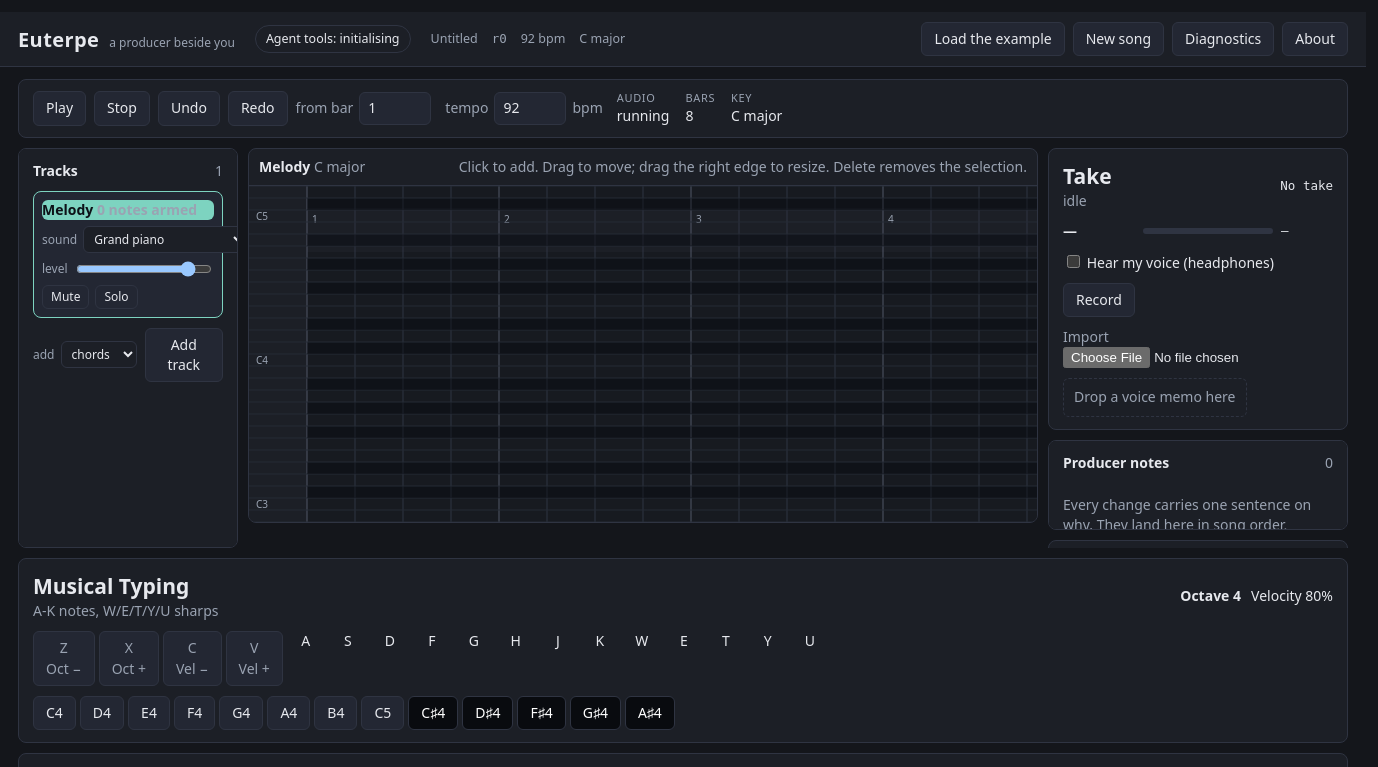
Test case: App › loads the example from the empty page in one click
(page scrolled)
Expected: the button "New song" is disabled, top-left (1073, 22), bottom-right (1164, 56)
Click the button "Load the example".
click(993, 39)  # box top-left (922, 22), bottom-right (1065, 56)
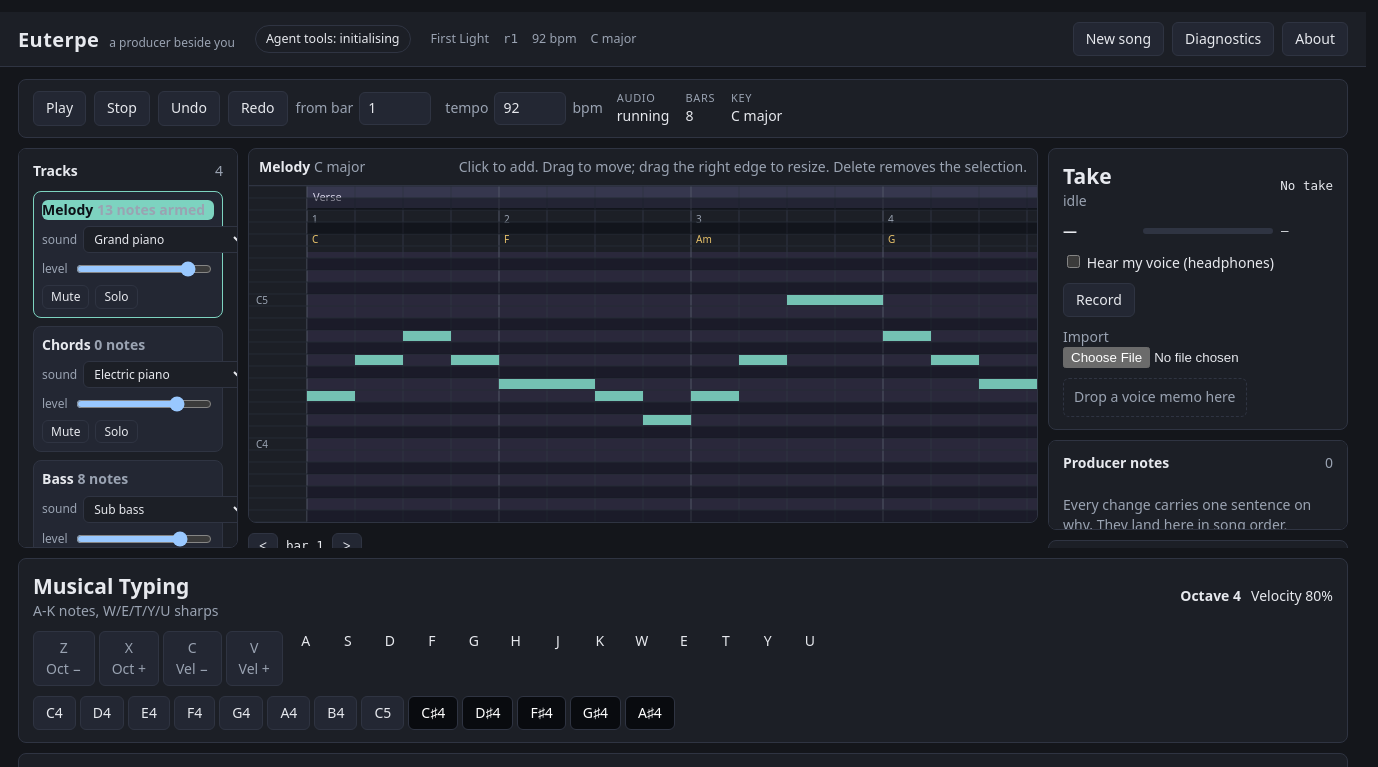
Expected: the button "New song" is enabled, top-left (1073, 22), bottom-right (1164, 56)
Now the button "Load the example" is gone
